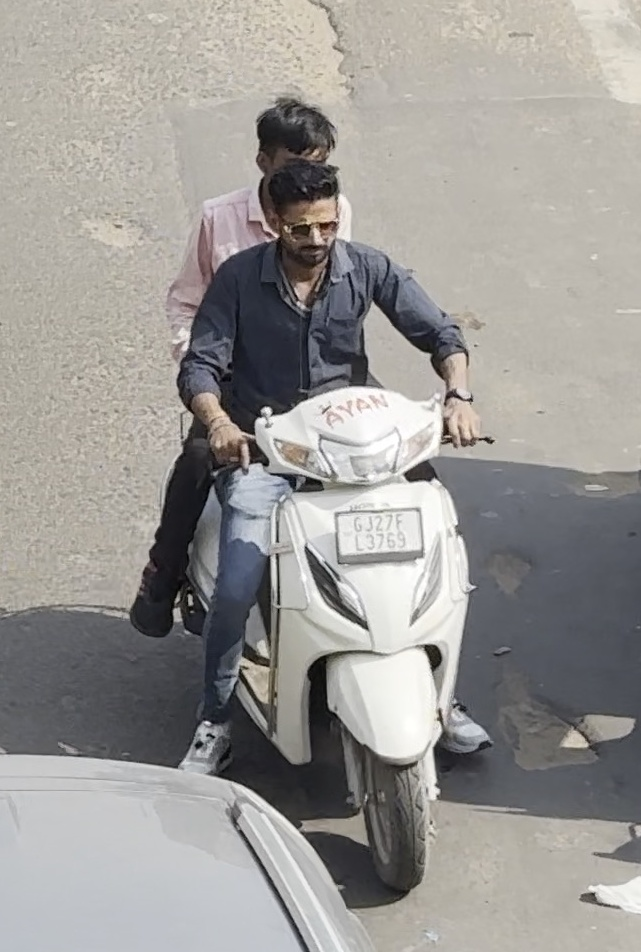BikeWithRider: (125, 90, 496, 898)
NoHelmet: (262, 152, 352, 271), (249, 88, 342, 194)
